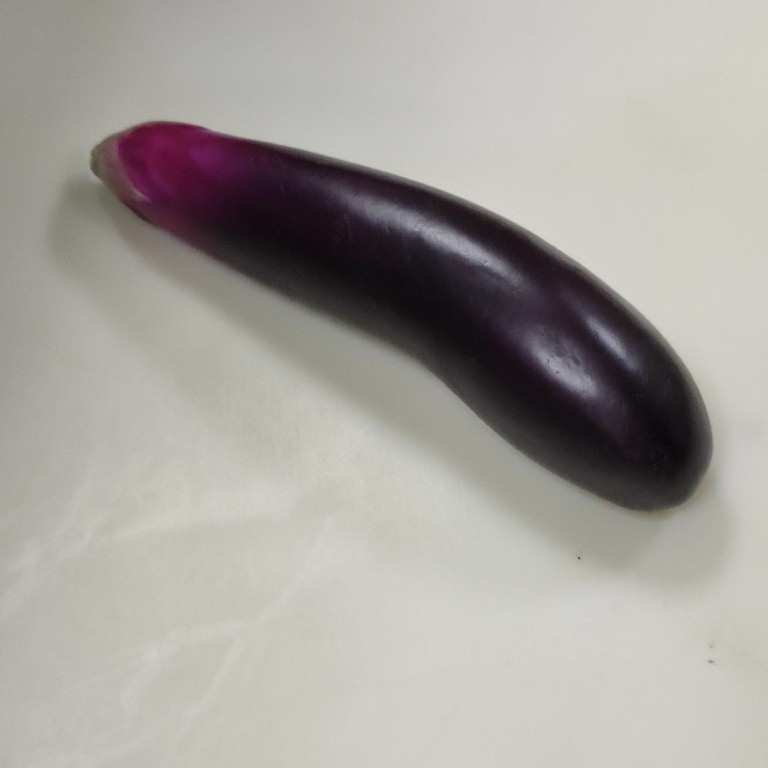fruit_eggplant: (85, 113, 718, 517)
